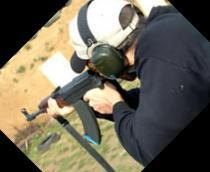larga: (21, 68, 118, 146)
